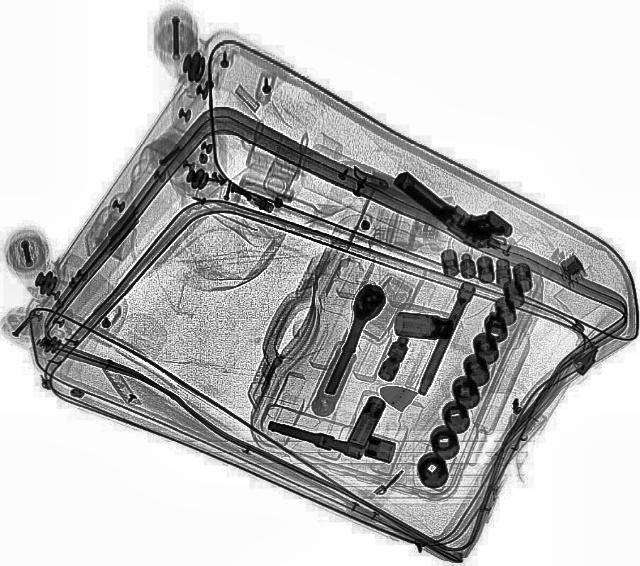Gun: (388, 151, 518, 260)
